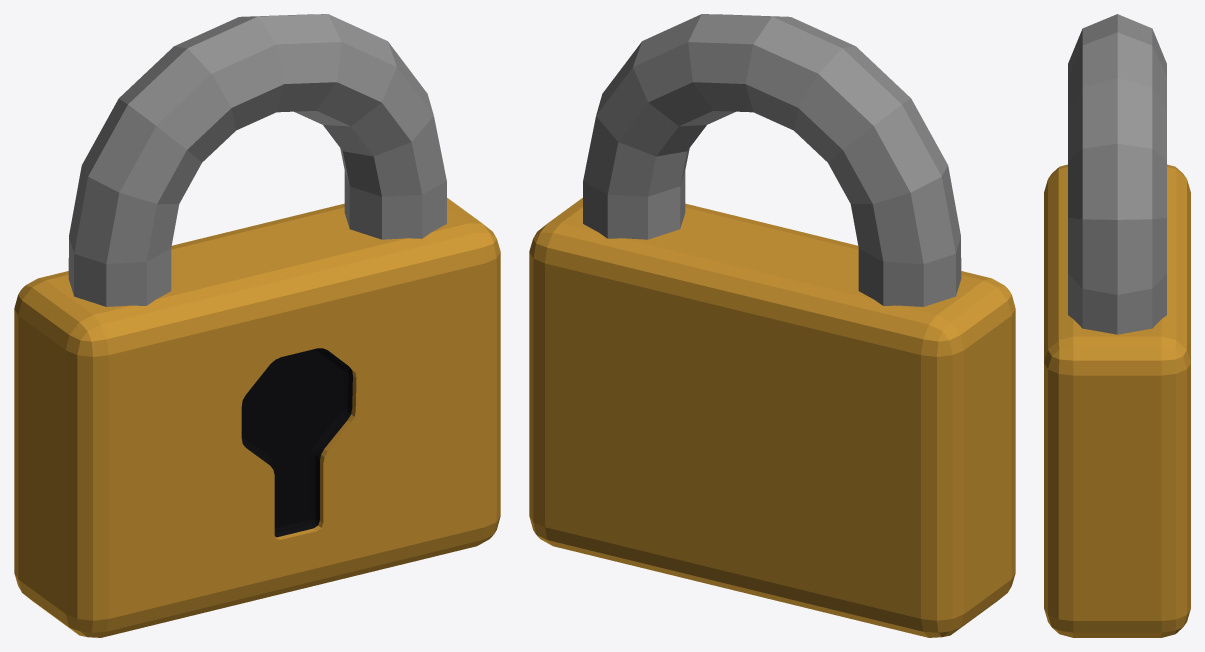
Rendered from Padlock.obj.
3 views of the same model, side by side, from view 1: azimuth 30°, elevation 25°; view 2: azimuth 150°, elevation 25°; view 3: azimuth 270°, elevation 25° (orthographic). The views are drawn at different scales.
Parts seen in each view (by area): view 1: Cube; view 2: Cube; view 3: Cube.
Boxes of the visible parts, bbox=[...] form: Cube: bbox=[14, 14, 500, 637]; Cube: bbox=[529, 14, 1015, 637]; Cube: bbox=[1044, 14, 1190, 637].
Bounding box in the file's own units: 2.85 × 3.52 × 0.9052.
